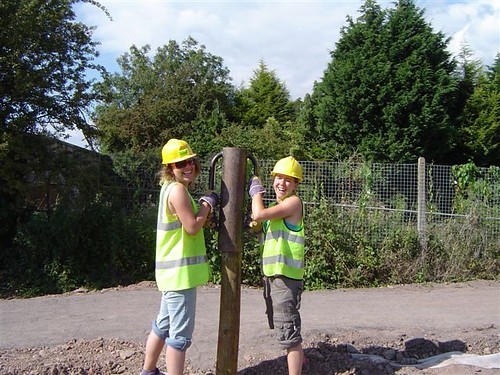person hardhat: (252, 154, 313, 375), (156, 142, 213, 375)
